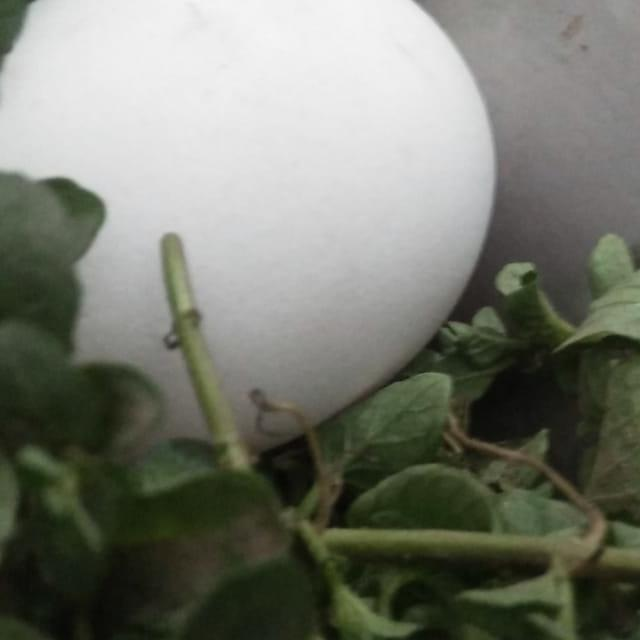egg: (0, 0, 499, 466)
